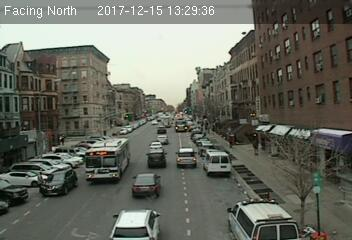bus: (85, 138, 130, 183)
car: (109, 209, 163, 240), (39, 168, 78, 196), (131, 174, 162, 199), (175, 147, 197, 167), (145, 151, 167, 167), (148, 141, 163, 150)
police: (225, 196, 301, 240)
truck: (201, 150, 231, 176)
